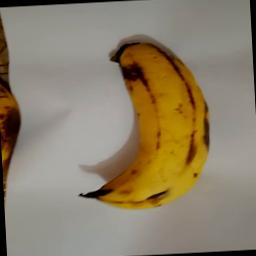Banana Unripe: (70, 33, 216, 213)
